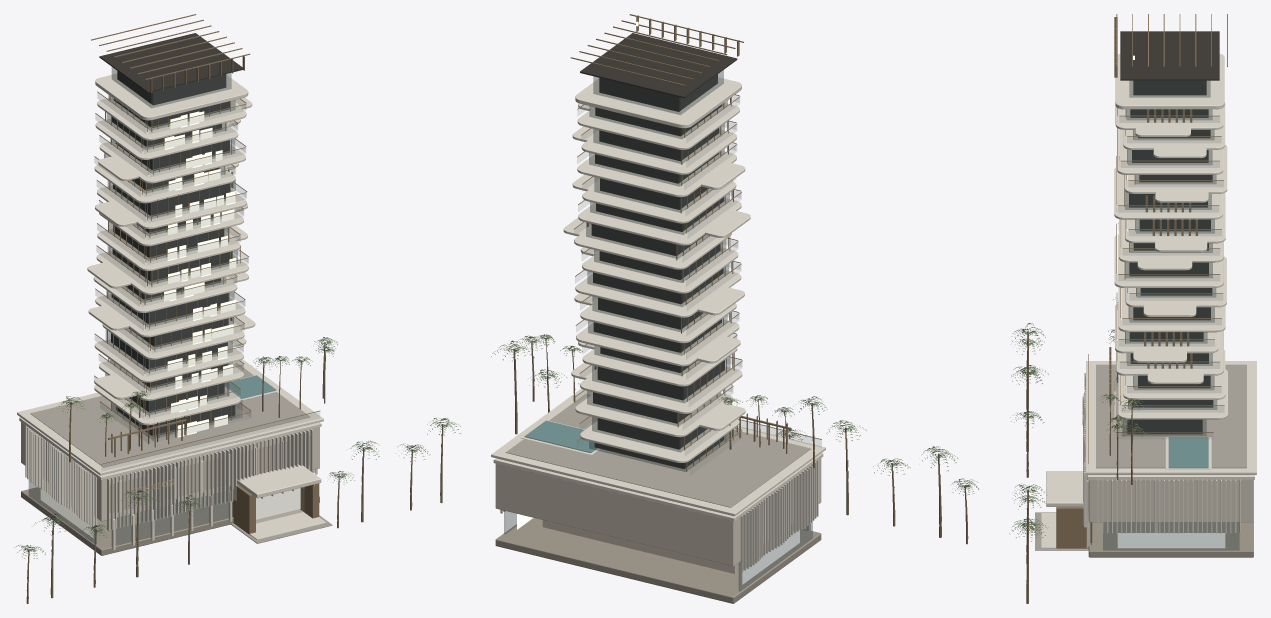
The model's file is asterion.glb.
3 views of the same model, side by side, from view 1: azimuth 30°, elevation 25°; view 2: azimuth 150°, elevation 25°; view 3: azimuth 270°, elevation 25° (orthographic). The views are drawn at different scales.
Parts seen in each view (by area): view 1: podium_fins_front, podium_roof_plaza, crown_roof, podium_base, podium_mid, podium_fins_L, podium_roof, crown_slab, L15_slab, L04_slab, podium_glass_front, crown_glass (+66 smaller); view 2: podium_mid, podium_roof_plaza, podium_base, crown_roof, podium_fins_L, podium_roof, crown_slab, L04_slab, L15_slab, L11_slab, L08_slab, L09_slab (+57 smaller); view 3: podium_roof_plaza, podium_mid, crown_roof, podium_base, podium_glass_right, podium_roof, podium_fins_R, crown_slab, L06_slab, L11_slab, L08_slab, L02_slab (+73 smaller).
Boxes of the visible parts, <box> form: podium_fins_front: <box>107,429,313,530</box>; podium_roof_plaza: <box>30,363,310,467</box>; crown_roof: <box>99,33,242,92</box>; podium_base: <box>21,487,319,555</box>; podium_mid: <box>21,422,319,521</box>; podium_fins_L: <box>25,425,97,528</box>; podium_roof: <box>17,359,323,475</box>; crown_slab: <box>95,73,248,120</box>; L15_slab: <box>97,97,246,140</box>; L04_slab: <box>94,339,243,382</box>; podium_glass_front: <box>116,493,232,545</box>; crown_glass: <box>112,67,231,107</box>; podium_mid: <box>495,458,821,566</box>; podium_roof_plaza: <box>505,393,810,507</box>; podium_base: <box>495,518,821,603</box>; crown_roof: <box>580,33,737,98</box>; podium_fins_L: <box>740,460,818,572</box>; podium_roof: <box>491,388,825,516</box>; crown_slab: <box>575,77,741,128</box>; L04_slab: <box>580,366,742,413</box>; L15_slab: <box>577,103,739,149</box>; L11_slab: <box>578,198,741,245</box>; L08_slab: <box>575,270,741,317</box>; L09_slab: <box>582,247,738,293</box>; podium_roof_plaza: <box>1096,364,1246,468</box>; podium_mid: <box>1088,480,1253,522</box>; crown_roof: <box>1120,31,1219,80</box>; podium_base: <box>1088,522,1253,557</box>; podium_glass_right: <box>1103,522,1239,550</box>; podium_roof: <box>1086,361,1256,474</box>; podium_fins_R: <box>1097,479,1240,533</box>; crown_slab: <box>1115,54,1224,109</box>; L06_slab: <box>1118,287,1225,332</box>; L11_slab: <box>1114,168,1222,219</box>; L08_slab: <box>1114,234,1223,287</box>; L02_slab: <box>1118,369,1227,419</box>.
Size of the model in its own units: 72.92 by 71.59 by 34.63.
